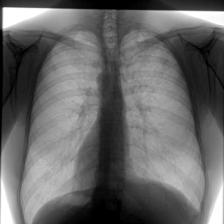tuberculosis: (17, 23, 210, 224)
